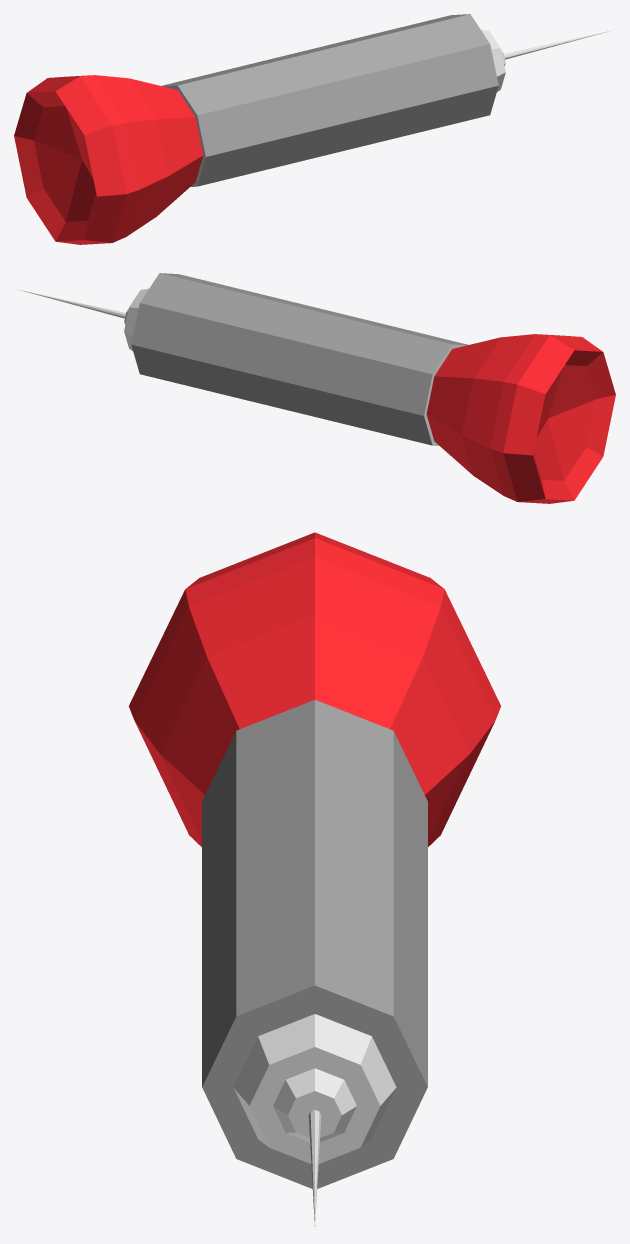
File: DardoTranquilizante_A01.fbx
3 renders of one model, top to bottom at view 1: azimuth 30°, elevation 25°; view 2: azimuth 150°, elevation 25°; view 3: azimuth 270°, elevation 25°, orthographic. The views are drawn at different scales.
Parts seen in each view (by area): view 1: Plano; view 2: Plano; view 3: Plano.
Boxes of the visible parts, x1,y1,x2,y2 form: Plano: (14,14,612,244); Plano: (17,273,615,503); Plano: (129,532,500,1226).
Size of the model in its own units: 6.49 by 1.87 by 1.87.
